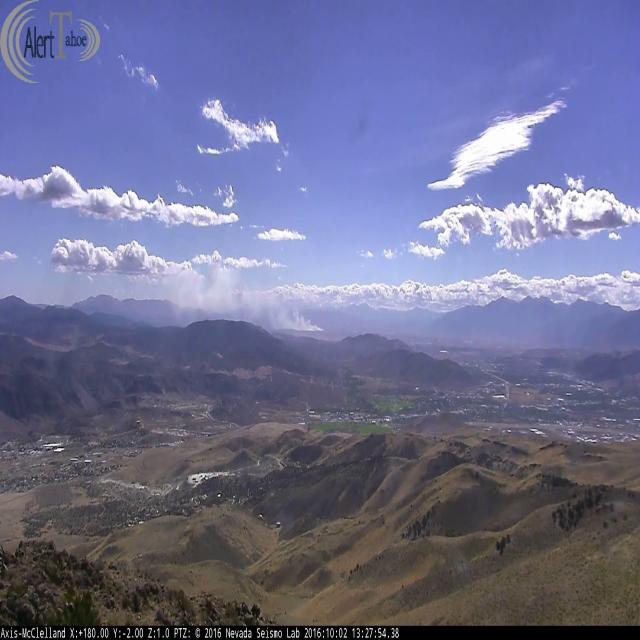smoke: (164, 261, 323, 332)
